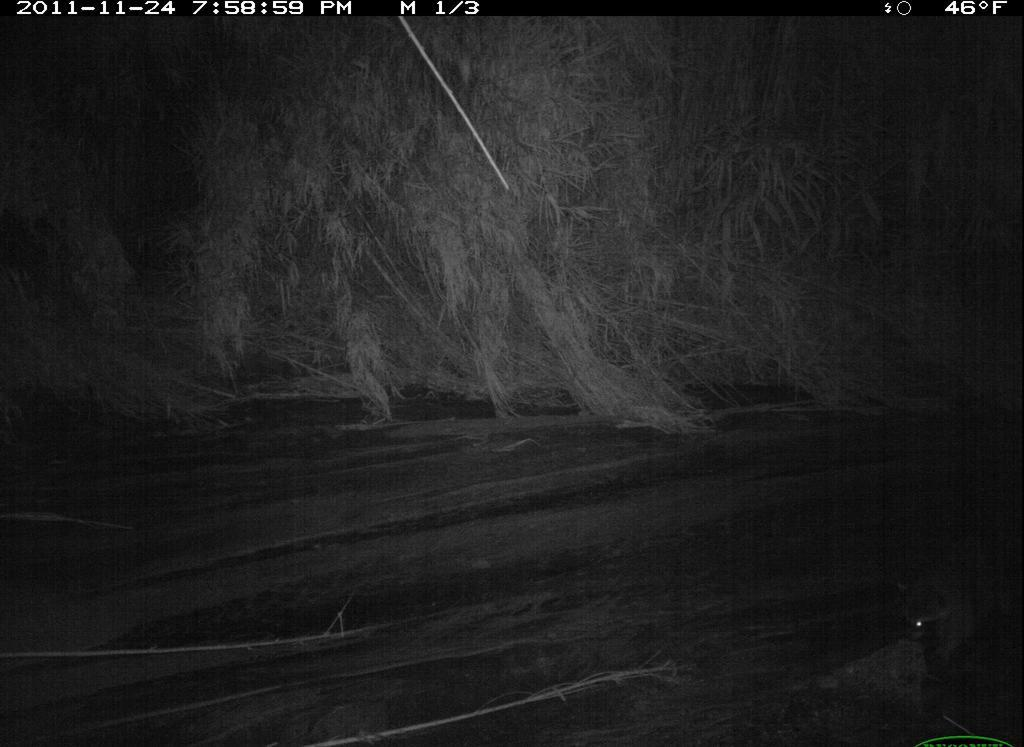raccoon: (883, 548, 1022, 685)
